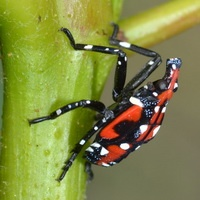insect: (29, 23, 181, 181)
